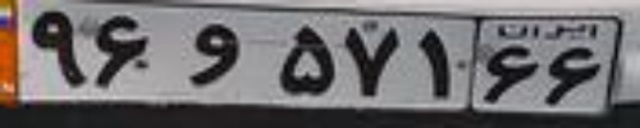1: (417, 28, 453, 98)
5: (277, 23, 334, 96)
6: (89, 13, 149, 86), (544, 45, 601, 105), (483, 45, 537, 101)
7: (340, 24, 402, 96)
9: (25, 8, 80, 88)
vav: (180, 21, 241, 88)
